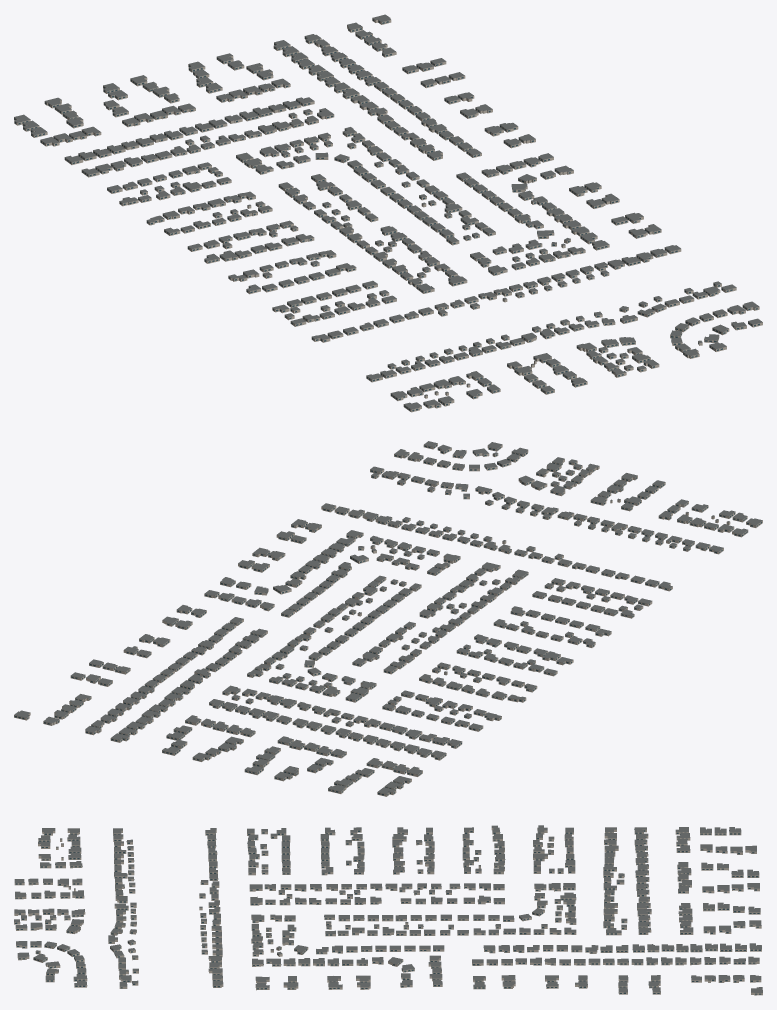
3 renders of one model, top to bottom at view 1: azimuth 30°, elevation 25°; view 2: azimuth 150°, elevation 25°; view 3: azimuth 270°, elevation 25°, orthographic. The views are drawn at different scales.
Parts seen in each view (by area): view 1: Buildings (1, -8) Roof membrane, Buildings (1, -8) Masonry brick, Buildings (1, -8) Architectural tinted glass, Buildings (1, -8) Metal coping; view 2: Buildings (1, -8) Roof membrane, Buildings (1, -8) Masonry brick, Buildings (1, -8) Architectural tinted glass, Buildings (1, -8) Metal coping; view 3: Buildings (1, -8) Roof membrane, Buildings (1, -8) Masonry brick, Buildings (1, -8) Architectural tinted glass, Buildings (1, -8) Metal coping.
Boxes of the visible parts, x1,y1,x2,y2 form: Buildings (1, -8) Roof membrane: (14, 14, 762, 409); Buildings (1, -8) Masonry brick: (14, 18, 762, 412); Buildings (1, -8) Architectural tinted glass: (14, 19, 759, 411); Buildings (1, -8) Metal coping: (14, 14, 762, 409); Buildings (1, -8) Roof membrane: (14, 441, 762, 793); Buildings (1, -8) Masonry brick: (14, 443, 762, 796); Buildings (1, -8) Architectural tinted glass: (14, 445, 761, 795); Buildings (1, -8) Metal coping: (15, 441, 762, 794); Buildings (1, -8) Roof membrane: (14, 825, 762, 992); Buildings (1, -8) Masonry brick: (14, 827, 762, 995); Buildings (1, -8) Architectural tinted glass: (15, 829, 761, 994); Buildings (1, -8) Metal coping: (14, 825, 762, 992).
Bounding box in the file's own units: 499 × 4.92 × 943.
